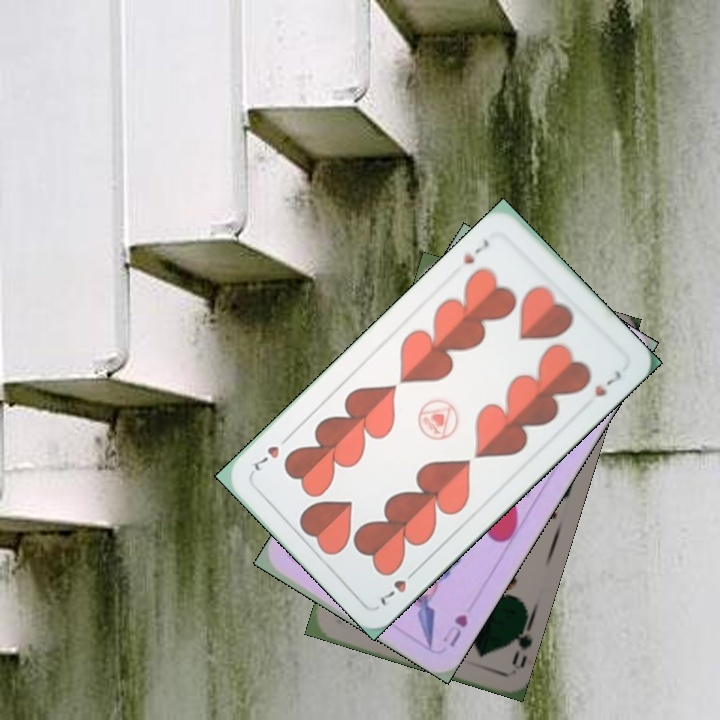GO: (502, 614, 536, 668)
H7: (376, 564, 422, 609), (459, 235, 492, 267)
HU: (445, 610, 471, 650)
